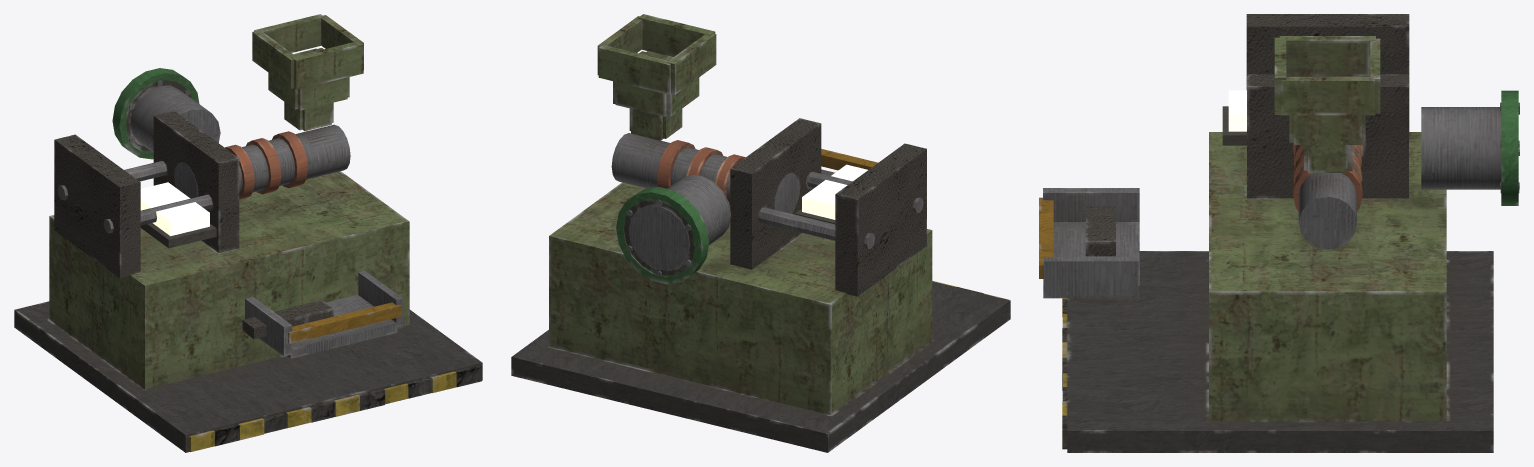
Rendered from feInjector_HD.fbx.
3 views of the same model, side by side, from view 1: azimuth 30°, elevation 25°; view 2: azimuth 150°, elevation 25°; view 3: azimuth 270°, elevation 25° (orthographic). The views are drawn at different scales.
Visible parts, largest first — view 1: feInjector_Base, FeCastMetal, FeCastReady; view 2: feInjector_Base, FeCastMetal; view 3: feInjector_Base, FeCastReady, FeCastMetal.
Part boxes in pixels (x1,y1,x2,y2): feInjector_Base: [14, 14, 482, 452]; FeCastMetal: [140, 182, 209, 236]; FeCastReady: [242, 300, 333, 338]; feInjector_Base: [511, 14, 1010, 452]; FeCastMetal: [802, 164, 867, 219]; feInjector_Base: [1039, 14, 1519, 452]; FeCastReady: [1085, 206, 1115, 256]; FeCastMetal: [1228, 90, 1246, 131].
Bounding box in the file's own units: 0.9012 × 0.823 × 1.02.
Materials: 2 (1 with a texture image).
